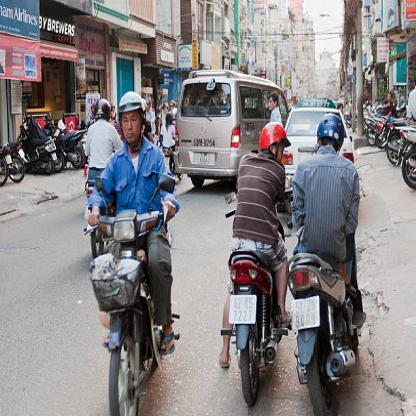Motorcycle: (81, 181, 175, 415), (284, 228, 360, 415), (220, 203, 279, 406)
